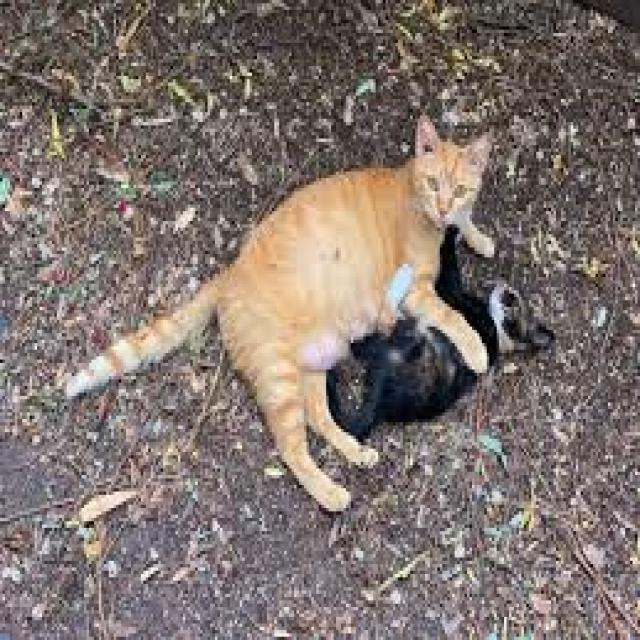cat: (51, 107, 508, 521), (322, 231, 558, 444)
